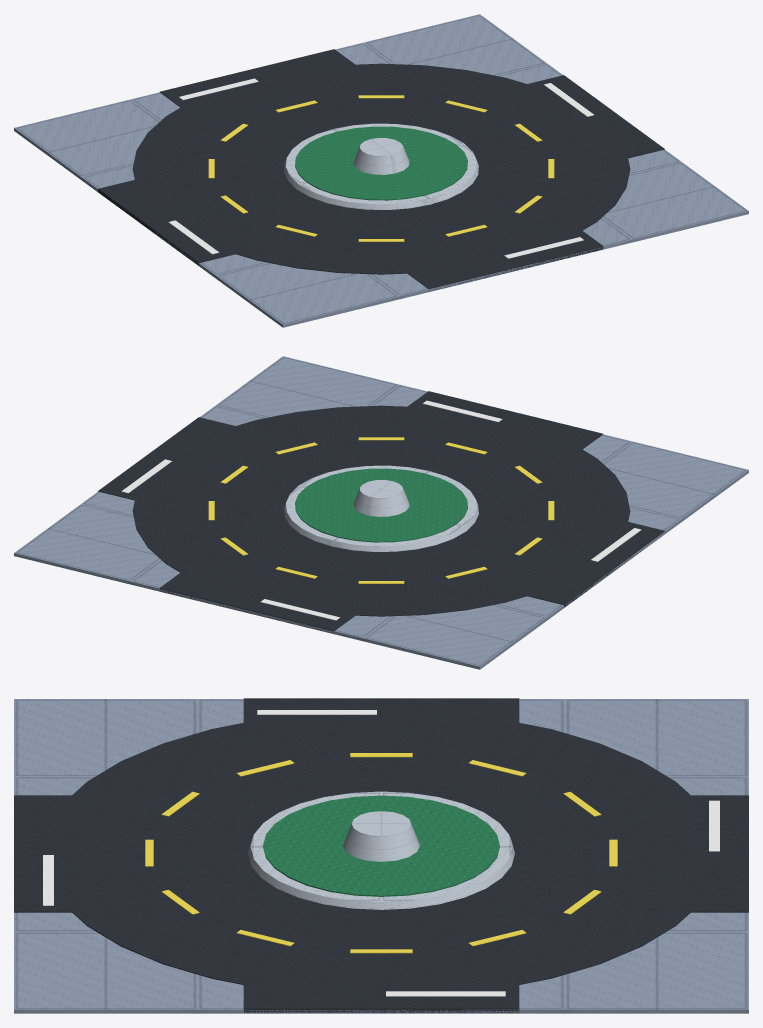
Rendered from road_roundabout.glb.
The picture shows the model from 3 angles, top to bottom: view 1: azimuth 30°, elevation 25°; view 2: azimuth 150°, elevation 25°; view 3: azimuth 270°, elevation 25°; orthographic projection. The views are drawn at different scales.
Parts seen in each view (by area): view 1: road_roundabout; view 2: road_roundabout; view 3: road_roundabout.
Boxes of the visible parts, left/top/right/bottom form: road_roundabout: left=14, top=14, right=748, bottom=327; road_roundabout: left=14, top=356, right=748, bottom=669; road_roundabout: left=14, top=698, right=748, bottom=1013.
Size of the model in its own units: 16 by 0.835 by 16.
Materials: 6 (4 with a texture image).
